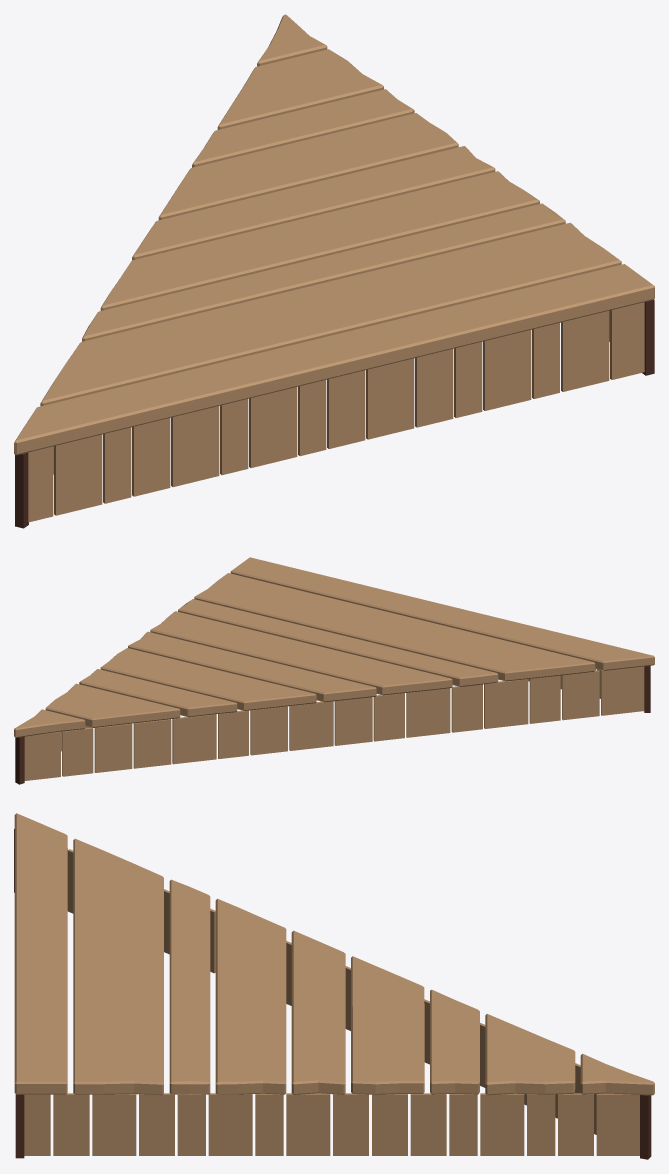
The model's file is foundation-f.glb.
3 views of the same model, one above another, from view 1: azimuth 30°, elevation 25°; view 2: azimuth 150°, elevation 25°; view 3: azimuth 270°, elevation 25° (orthographic). The views are drawn at different scales.
Parts seen in each view (by area): view 1: Foundation F (×2); view 2: Foundation F (×2); view 3: Foundation F (×2).
Boxes of the visible parts, bbox=[...] form: Foundation F (×2): bbox=[14, 14, 654, 528]; Foundation F (×2): bbox=[14, 557, 654, 784]; Foundation F (×2): bbox=[14, 813, 654, 1159].
Bounding box in the file's own units: 3.3 × 0.4343 × 3.3.
